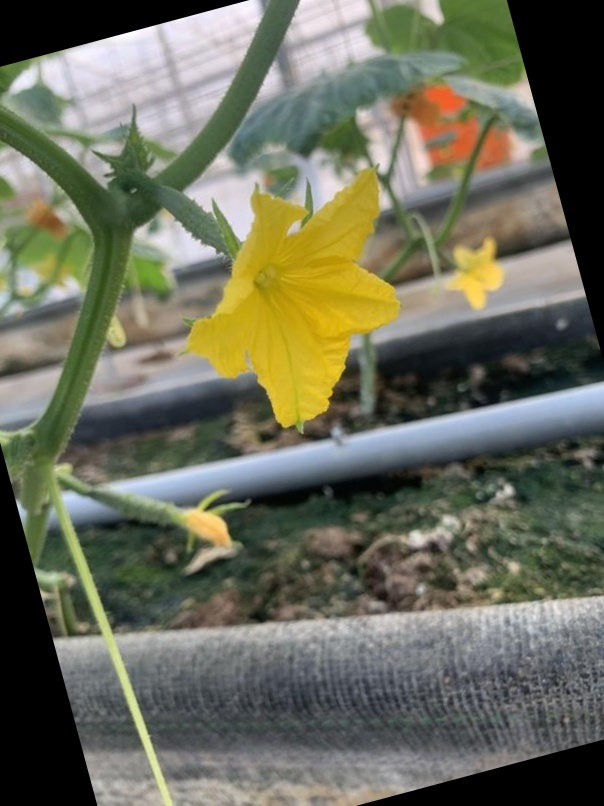flowering: (112, 136, 418, 435)
mature: (115, 138, 418, 436)
